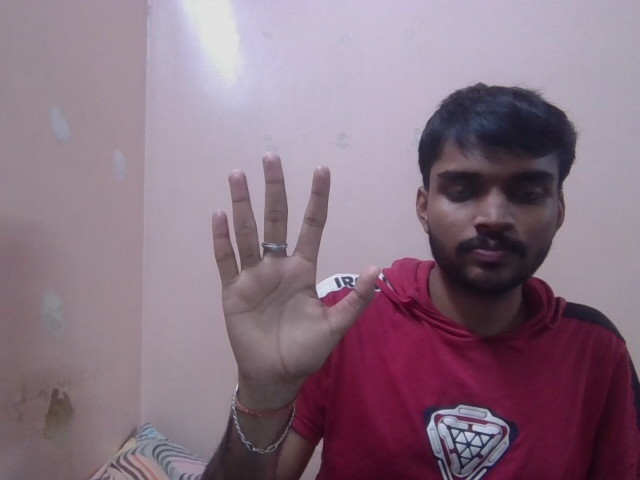Hello: (201, 147, 382, 386)
